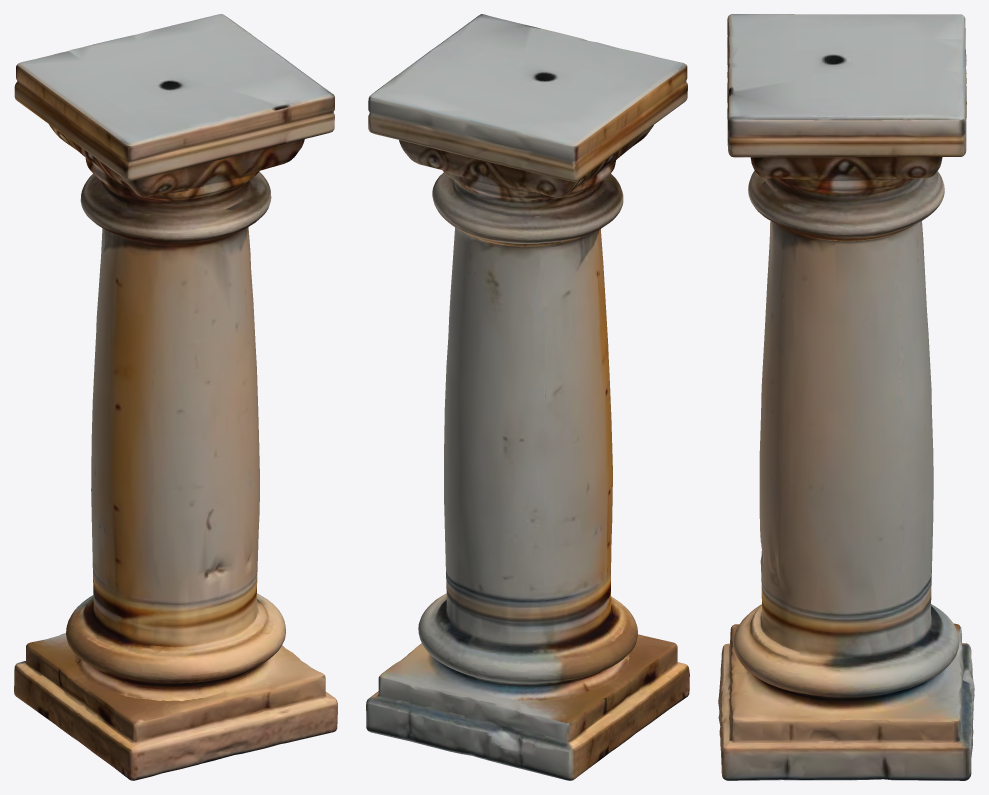
The model's file is weathered-monolith-pillar-generated-2026-04-18t22-01-36-007z-texture-wrap-2026-04-18T23-14-30-195Z.low.glb.
The picture shows the model from 3 angles, left to right: view 1: azimuth 30°, elevation 25°; view 2: azimuth 150°, elevation 25°; view 3: azimuth 270°, elevation 25°; orthographic projection. The views are drawn at different scales.
Parts seen in each view (by area): view 1: temp_mesh.ply; view 2: temp_mesh.ply; view 3: temp_mesh.ply.
Boxes of the visible parts, bbox=[...] form: temp_mesh.ply: bbox=[14, 14, 337, 780]; temp_mesh.ply: bbox=[366, 14, 689, 780]; temp_mesh.ply: bbox=[718, 14, 974, 780].
Size of the model in its own units: 0.6844 by 1.97 by 0.6911.
Materials: 1 (1 with a texture image).
